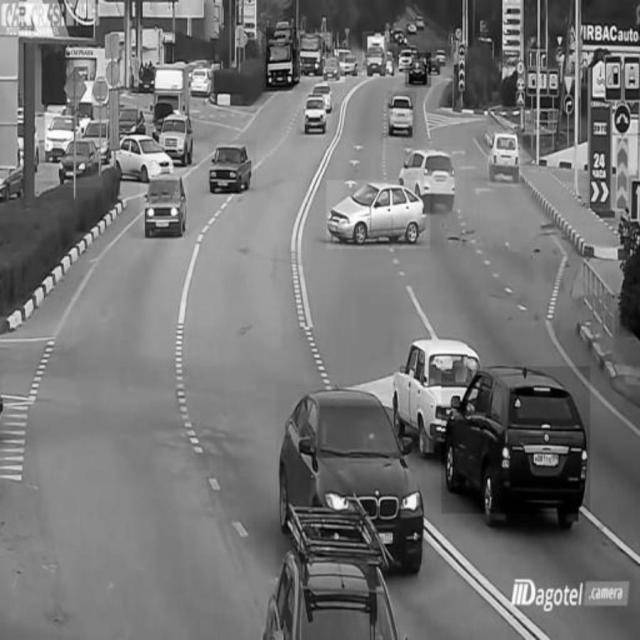vehicle: (276, 384, 424, 564), (441, 367, 589, 514), (395, 314, 468, 444), (327, 180, 430, 248), (395, 146, 465, 204), (109, 129, 175, 183), (140, 171, 187, 238), (210, 141, 257, 193), (53, 140, 103, 187), (488, 125, 523, 186), (266, 28, 296, 88), (160, 114, 194, 159), (46, 108, 72, 164), (388, 91, 416, 135), (363, 32, 390, 76), (302, 92, 332, 130), (405, 52, 431, 87), (190, 60, 215, 95), (322, 53, 346, 83)
